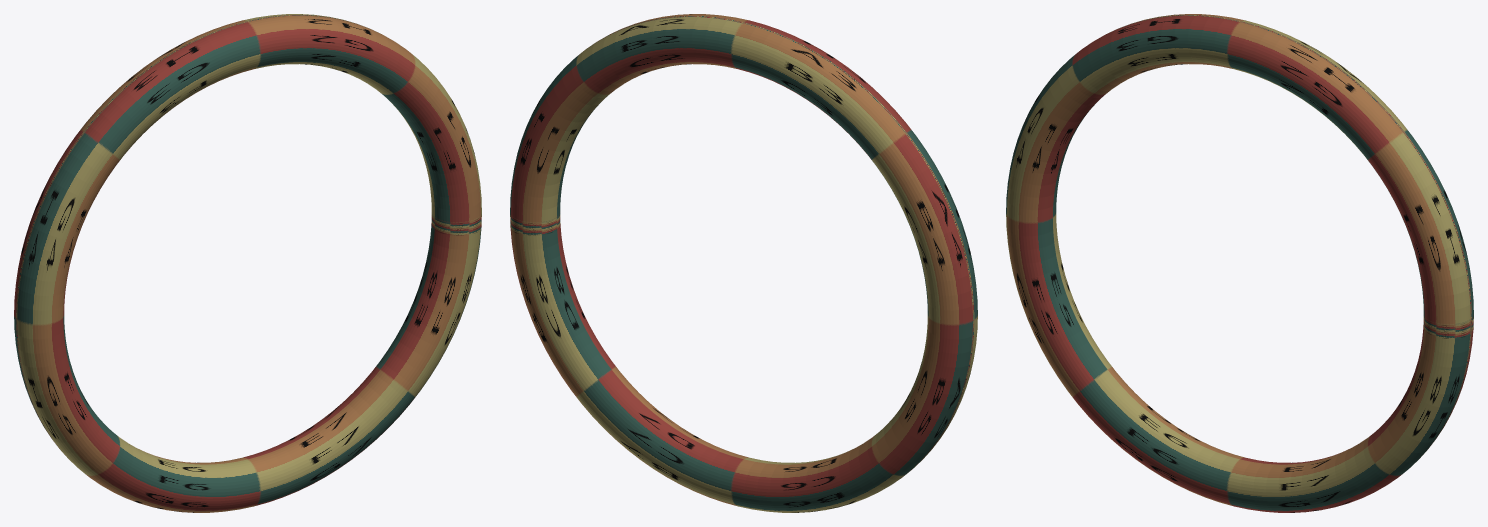
Rendered from texture_torus_R8_r1.glb.
3 views of the same model, side by side, from view 1: azimuth 30°, elevation 25°; view 2: azimuth 150°, elevation 25°; view 3: azimuth 330°, elevation 25° (orthographic).
Visible parts, largest first — view 1: world; view 2: world; view 3: world.
Part boxes in pixels (x1,y1,x2,y2): world: [14, 14, 481, 512]; world: [510, 14, 977, 512]; world: [1006, 14, 1473, 512].
Size of the model in its own units: 30.67 by 30.67 by 2.88.
1 material, 1 textured.
